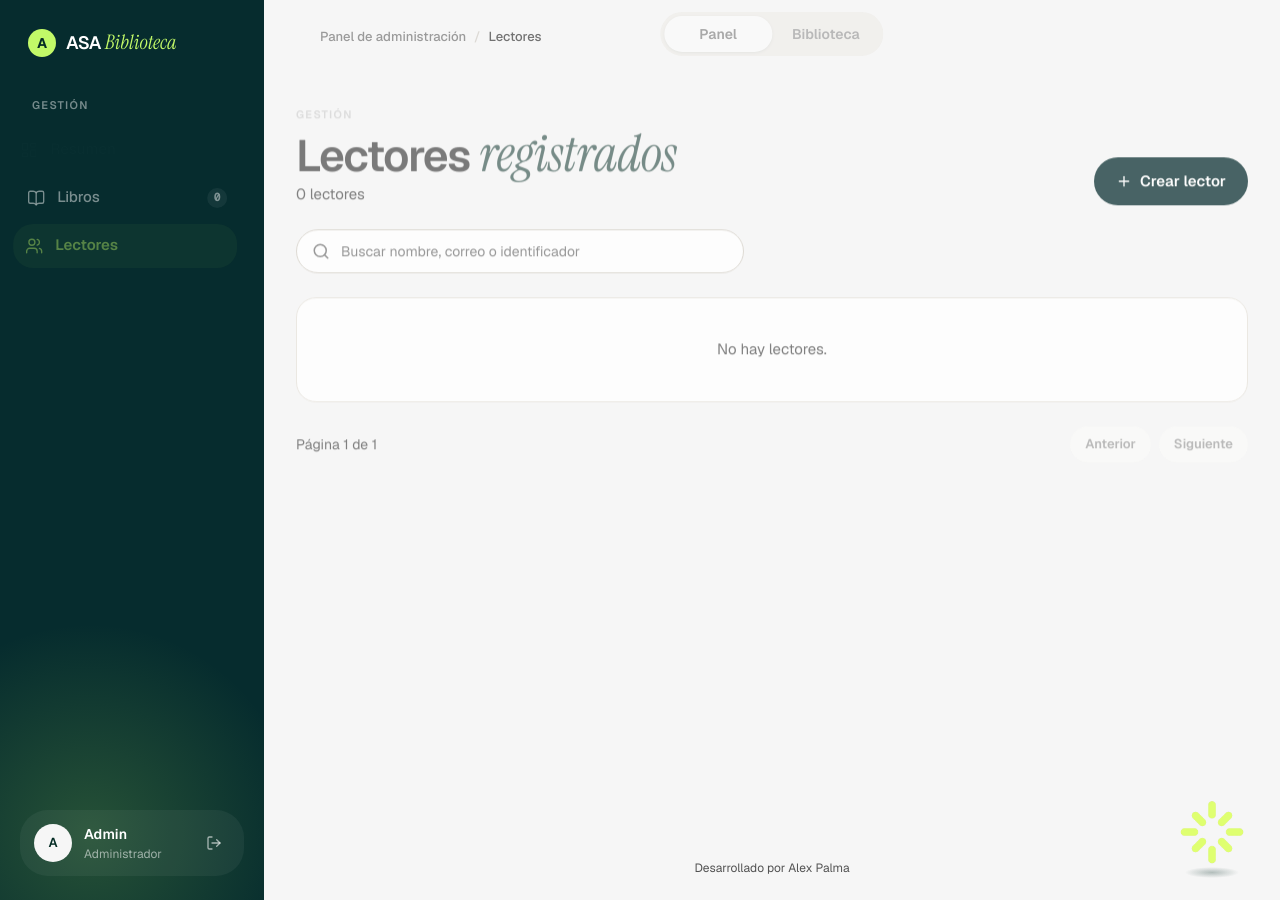
Test: formularios de admin: errores generales › lector: un código no mapeado muestra el detalle del servidor
Click the button "Crear lector". click: (1171, 181)
box: [1094,157,1248,205]
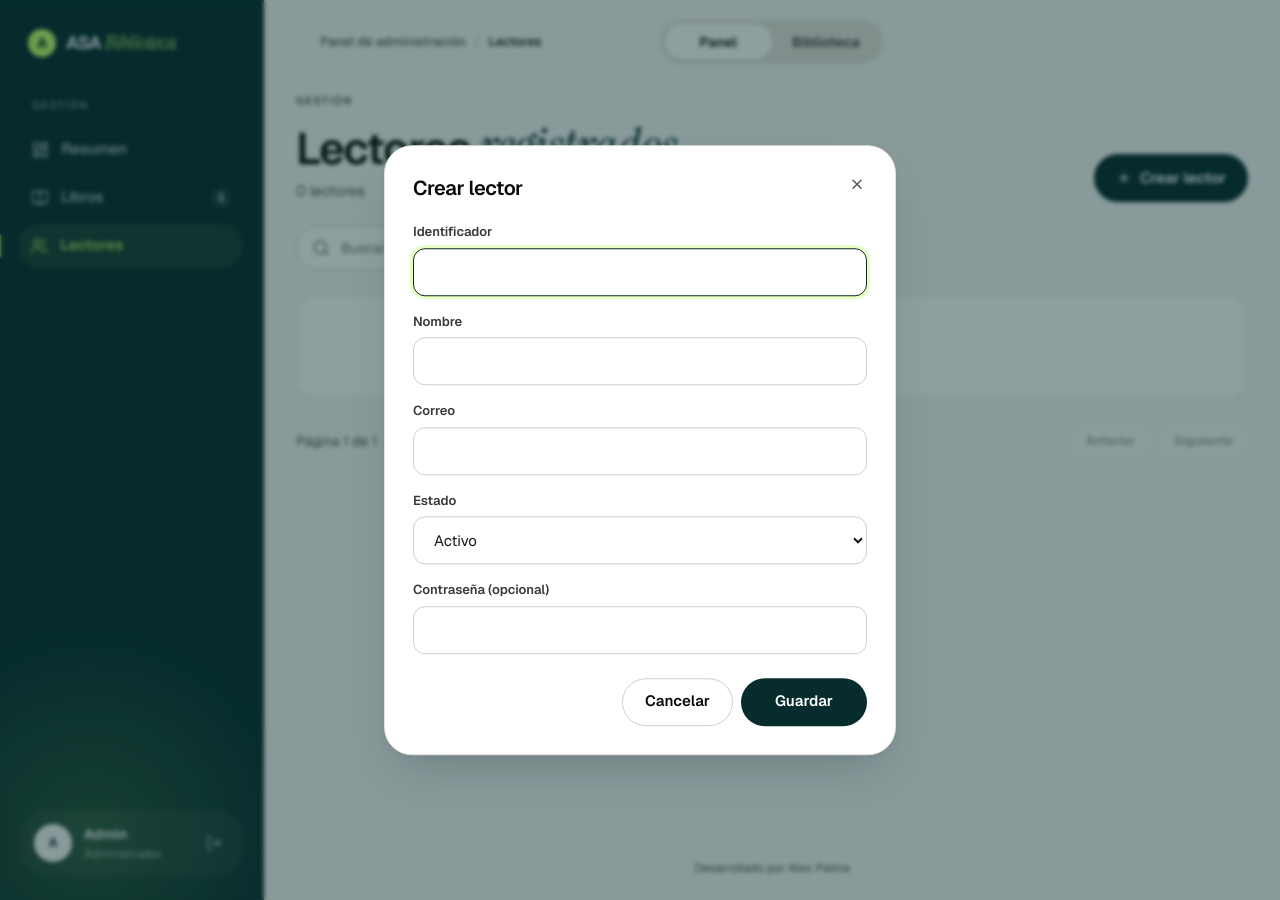
Type "L-900" into the field labelled "Identificador". click: (640, 272)
box: [413,248,867,296]
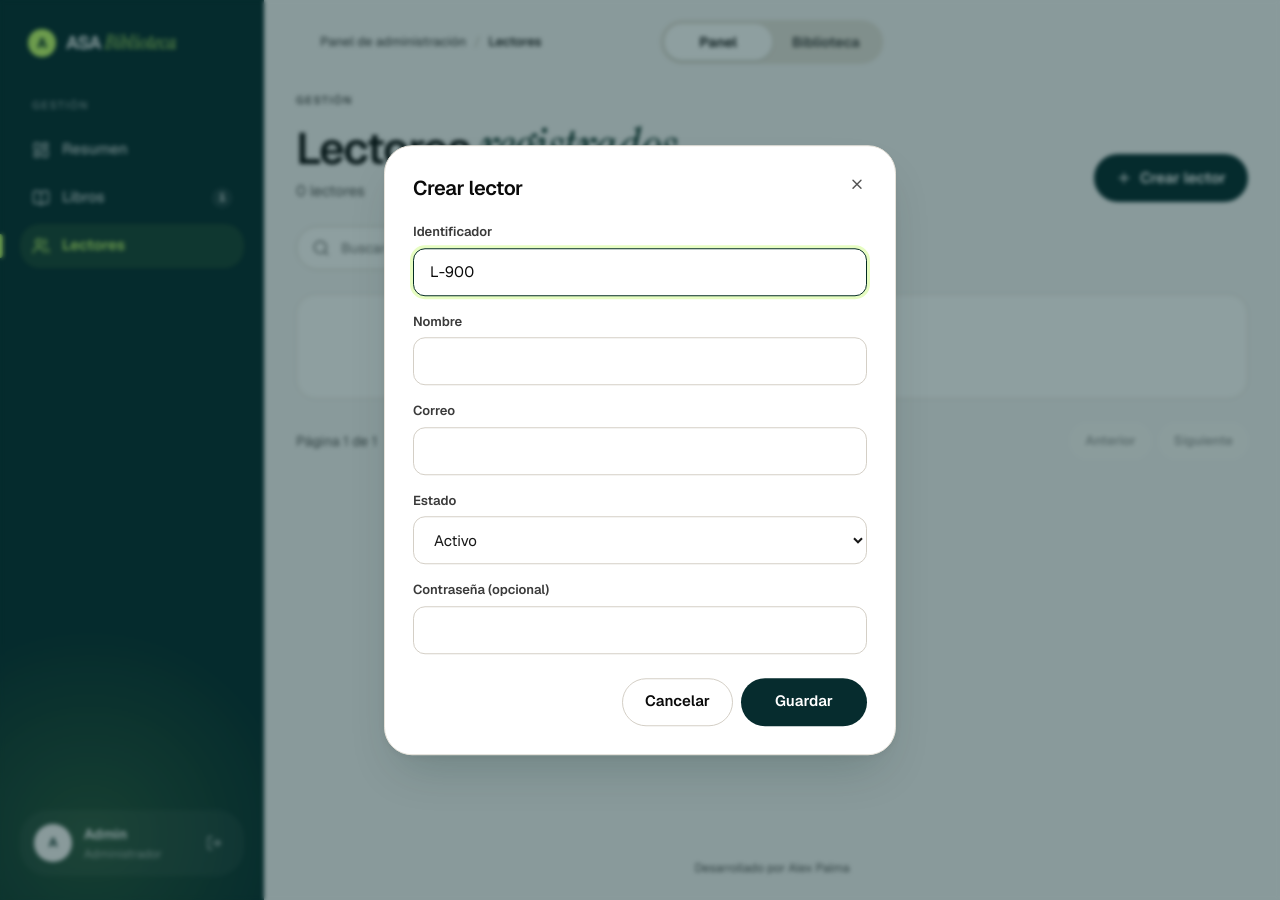
Type "Marta Ruiz" into the field labelled "Nombre". click: (640, 361)
box: [413,337,867,385]
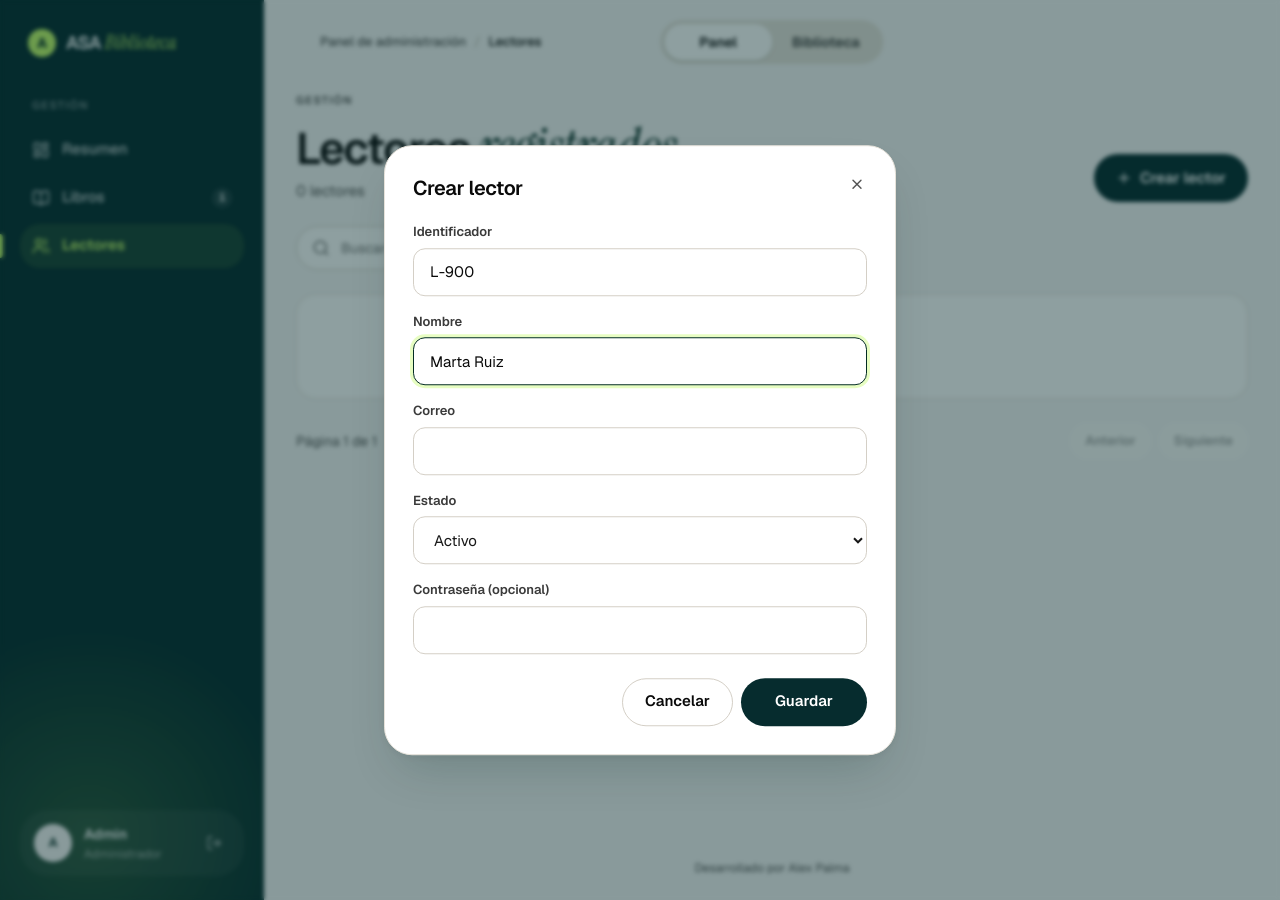
Type "marta@demo.local" into the field labelled "Correo". click: (640, 451)
box: [413,427,867,475]
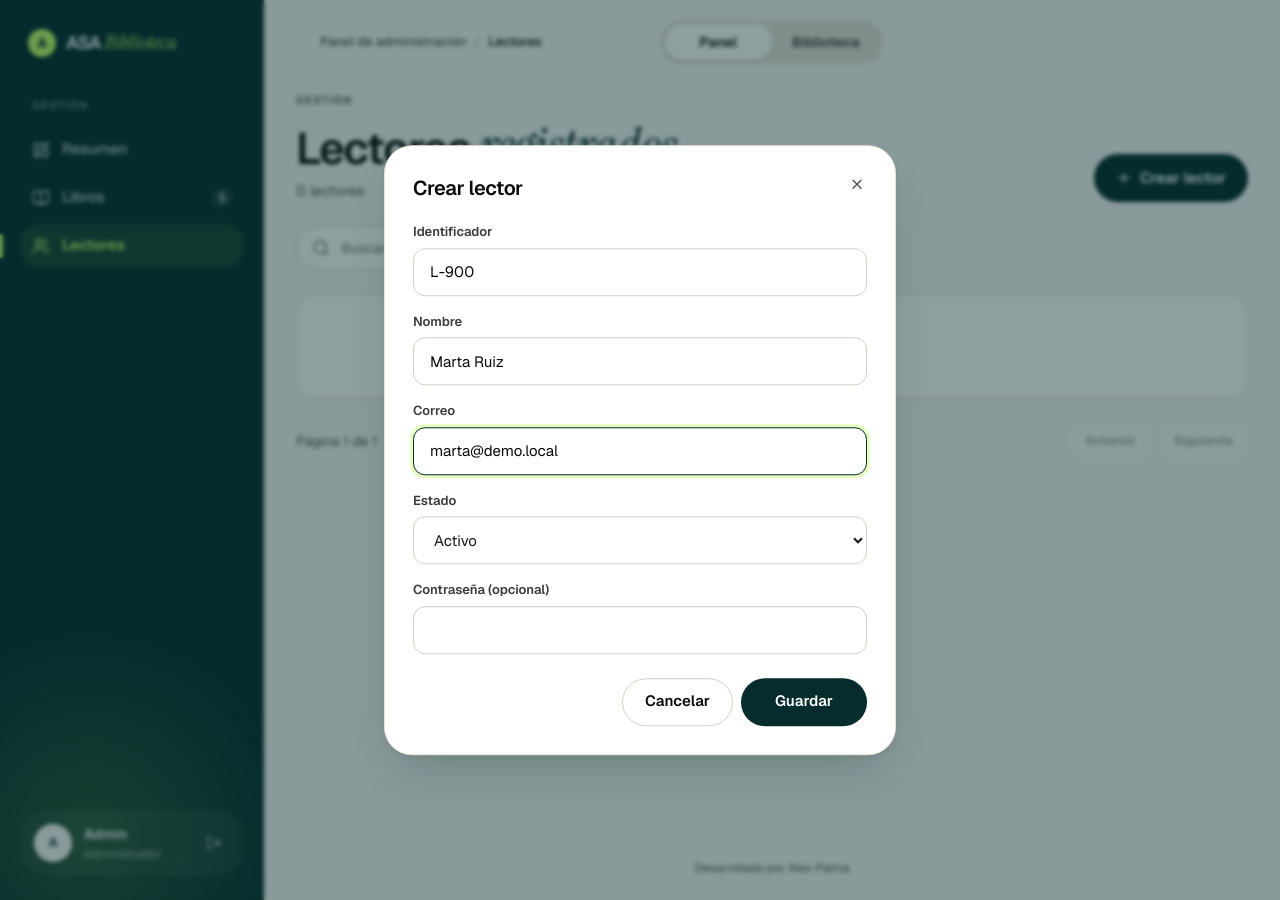
Click the button "Guardar". click: (804, 702)
box: [741,678,867,726]
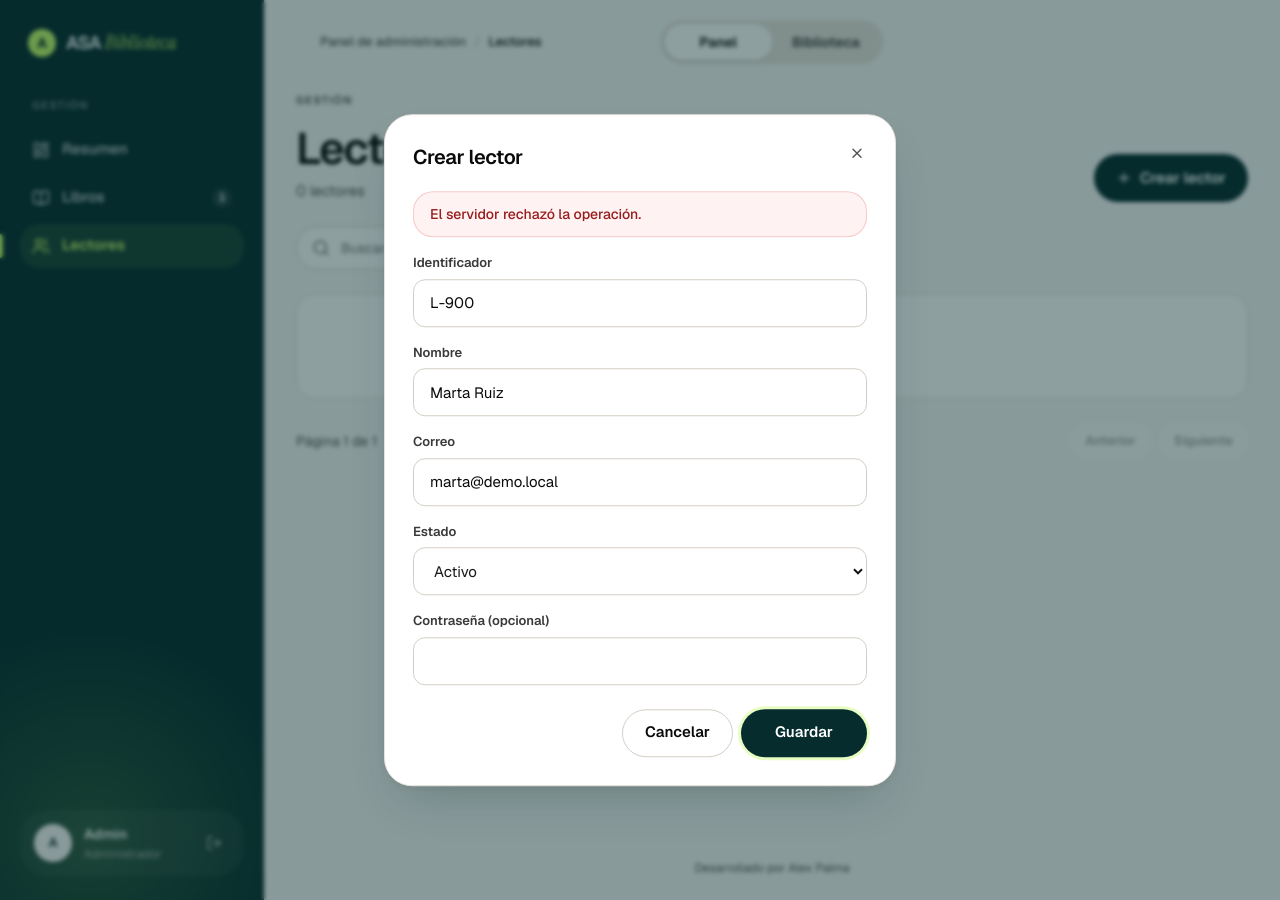
Check: the message reads "El servidor rechazó la operación.", box [430,205,641,223]
